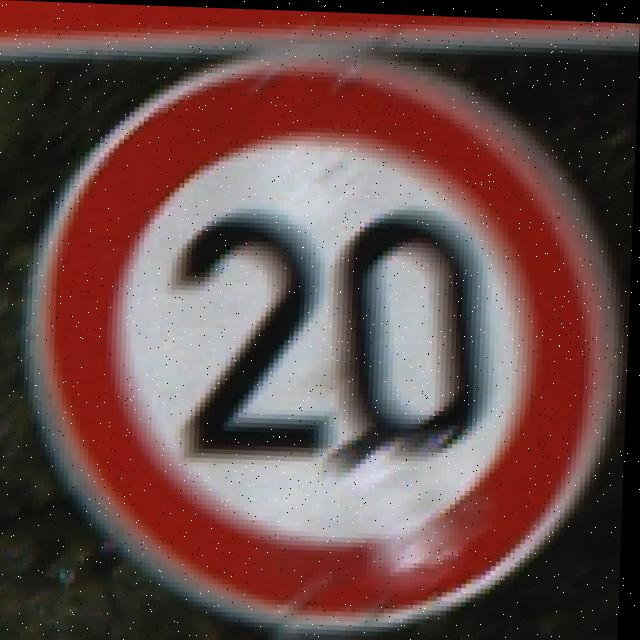speed_limit_20: (21, 44, 631, 640)
